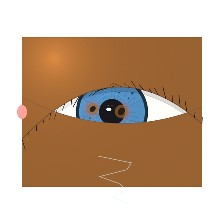foreign_body_visible: (100, 95, 142, 128)
